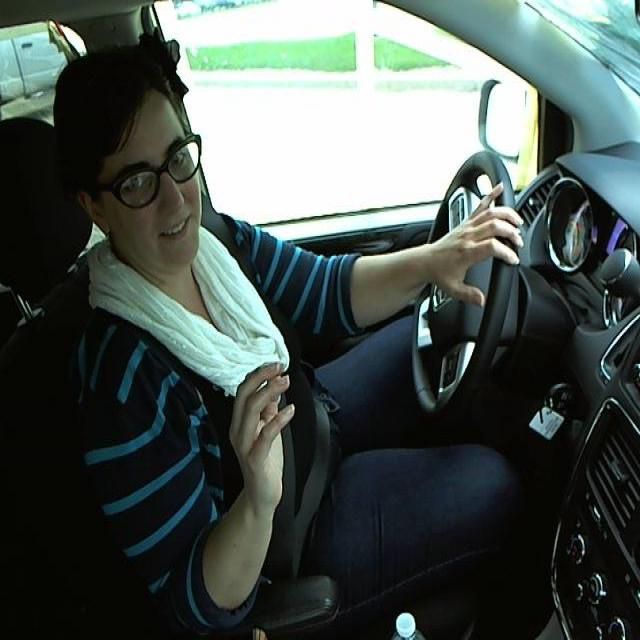seatbelt: (274, 364, 341, 577)
